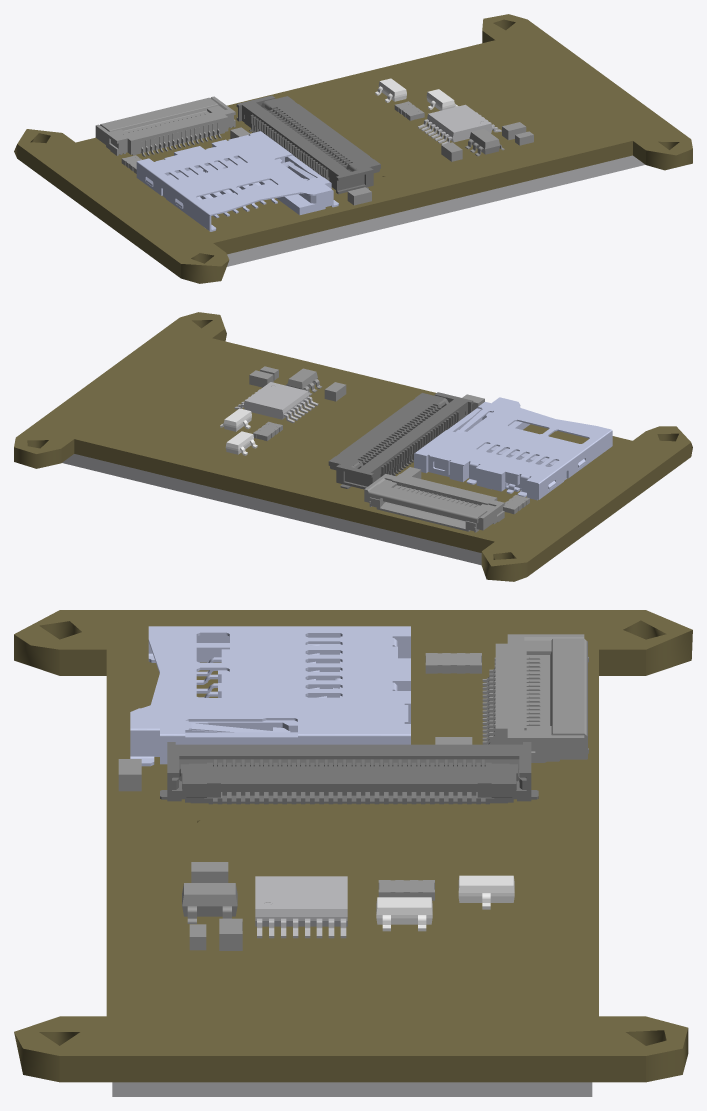
Rendered from ada-5394.glb.
3 renders of one model, top to bottom at view 1: azimuth 30°, elevation 25°; view 2: azimuth 150°, elevation 25°; view 3: azimuth 270°, elevation 25°, orthographic. The views are drawn at different scales.
Visible parts, largest first — view 1: 0.16666666666666666_0.16666666666666666_0.08333333333333333_, 0.5833333333333334_0.6666666666666666_0.8333333333333334_0, 0.3333333333333333_0.3333333333333333_0.3333333333333333_0, 0.5833333333333334_0.5833333333333334_0.5833333333333334_0.8, 0.25_0.25_0.25_0, 0.9166666666666666_0.9166666666666666_0.9166666666666666_0.8; view 2: 0.16666666666666666_0.16666666666666666_0.08333333333333333_, 0.5833333333333334_0.6666666666666666_0.8333333333333334_0, 0.3333333333333333_0.3333333333333333_0.3333333333333333_0, 0.5833333333333334_0.5833333333333334_0.5833333333333334_0.8, 0.25_0.25_0.25_0, 0.9166666666666666_0.9166666666666666_0.9166666666666666_0.8; view 3: 0.16666666666666666_0.16666666666666666_0.08333333333333333_, 0.5833333333333334_0.6666666666666666_0.8333333333333334_0, 0.25_0.25_0.25_0, 0.3333333333333333_0.3333333333333333_0.3333333333333333_0, 0.5833333333333334_0.5833333333333334_0.5833333333333334_0.8, 0.9166666666666666_0.9166666666666666_0.9166666666666666_0.8.
Part boxes in pixels (x1,y1,x2,y2): 0.16666666666666666_0.16666666666666666_0.08333333333333333_: (14, 14, 692, 283); 0.5833333333333334_0.6666666666666666_0.8333333333333334_0: (136, 131, 338, 231); 0.3333333333333333_0.3333333333333333_0.3333333333333333_0: (95, 96, 533, 205); 0.5833333333333334_0.5833333333333334_0.5833333333333334_0.8: (227, 104, 645, 266); 0.25_0.25_0.25_0: (236, 95, 380, 194); 0.9166666666666666_0.9166666666666666_0.9166666666666666_0.8: (375, 78, 458, 110); 0.16666666666666666_0.16666666666666666_0.08333333333333333_: (14, 312, 692, 581); 0.5833333333333334_0.6666666666666666_0.8333333333333334_0: (414, 397, 612, 500); 0.3333333333333333_0.3333333333333333_0.3333333333333333_0: (249, 366, 529, 532); 0.5833333333333334_0.5833333333333334_0.5833333333333334_0.8: (62, 382, 481, 565); 0.25_0.25_0.25_0: (328, 392, 473, 489); 0.9166666666666666_0.9166666666666666_0.9166666666666666_0.8: (220, 408, 257, 455); 0.16666666666666666_0.16666666666666666_0.08333333333333333_: (14, 610, 692, 1082); 0.5833333333333334_0.6666666666666666_0.8333333333333334_0: (130, 626, 410, 766); 0.25_0.25_0.25_0: (160, 742, 538, 804); 0.3333333333333333_0.3333333333333333_0.3333333333333333_0: (118, 634, 588, 950); 0.5833333333333334_0.5833333333333334_0.5833333333333334_0.8: (112, 876, 592, 1096); 0.9166666666666666_0.9166666666666666_0.9166666666666666_0.8: (376, 875, 514, 931).
Size of the model in its own units: 5.72 by 0.4971 by 3.68.
